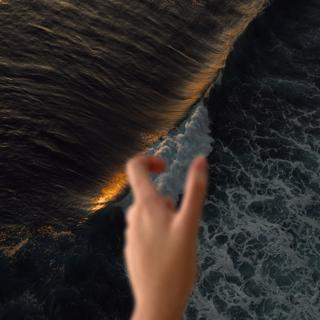HATE: (116, 151, 220, 313)
